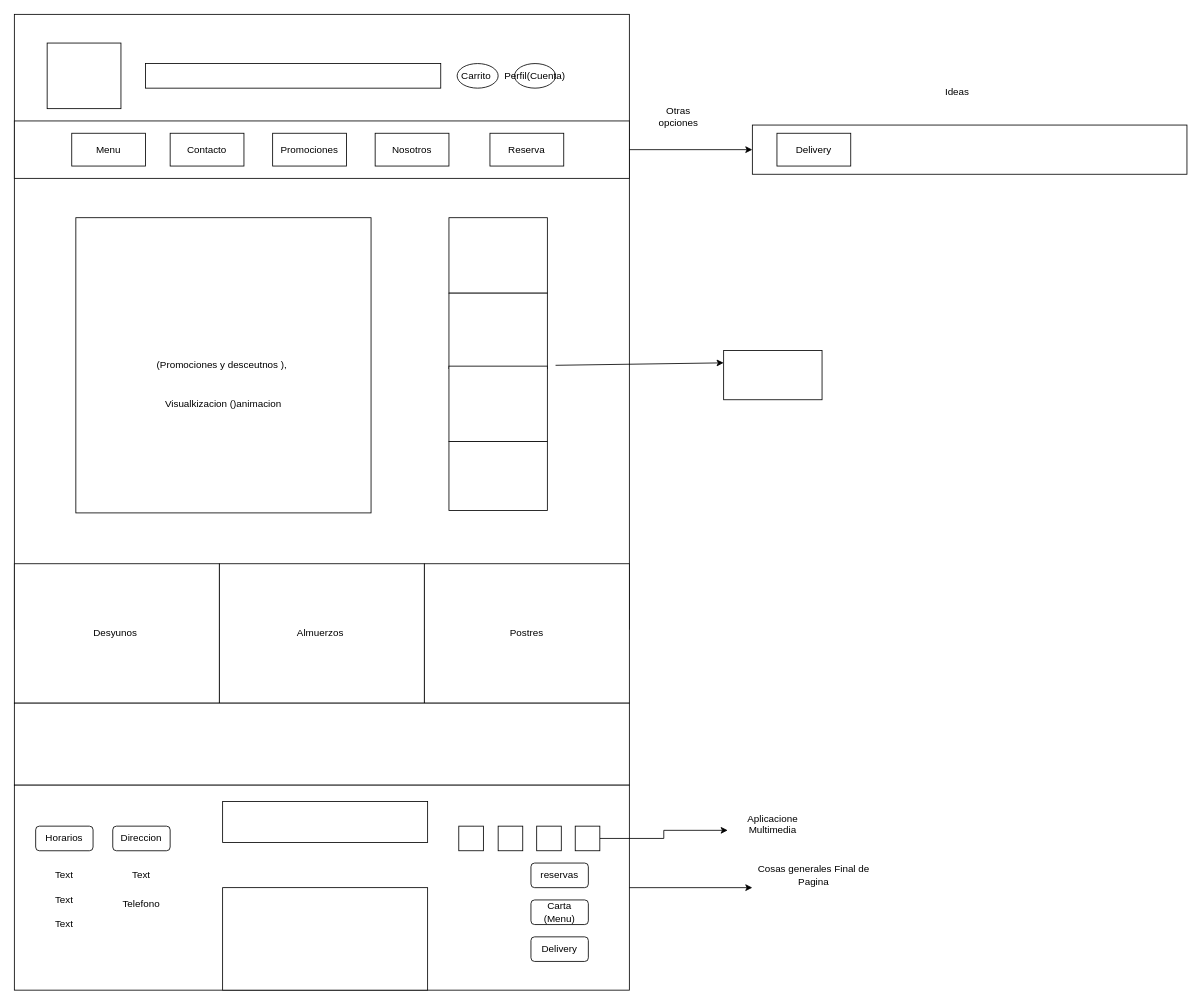
This 1201x1005 diagram has some shape labels left out. Each missing label, with the centre of its shape:
Buscar: pixel 293 75
Imagen de algo llamatico: pixel 325 938
Logo del establecieminto: pixel 83 75
Nombre de la marca: pixel 325 822
Platos mas pedidos novedades: pixel 772 375
